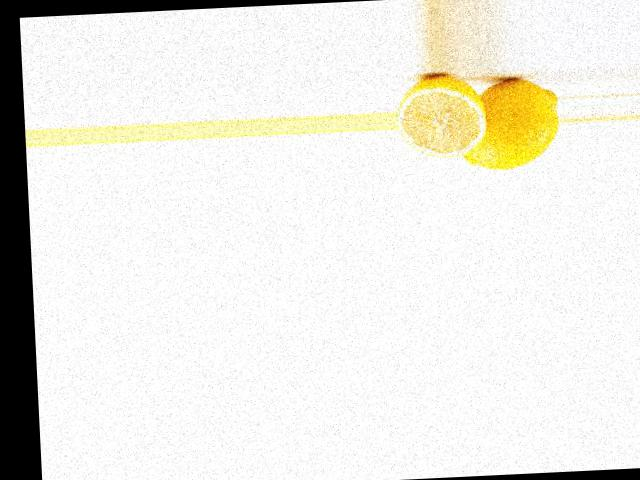lemon: (453, 74, 560, 173)
